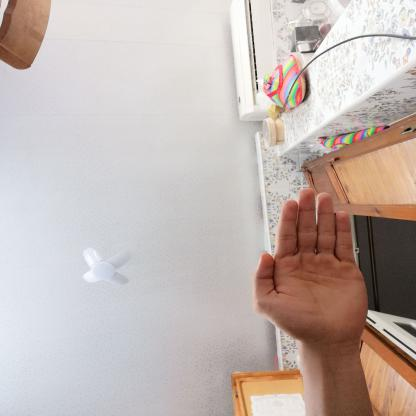SEEN: (241, 181, 377, 348)
